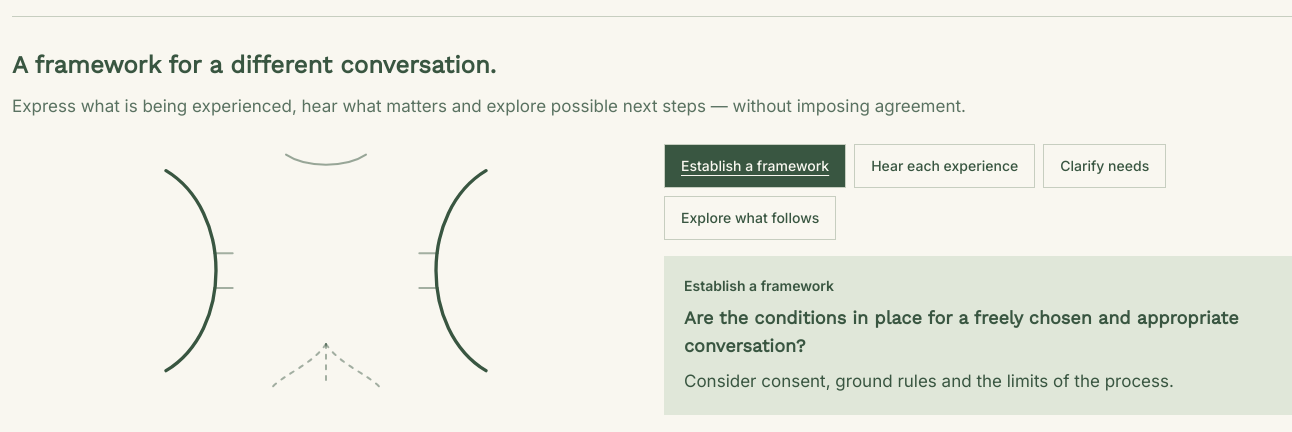
it: MediationIllustration › starts on the framework and lets any dimension be chosen directly
The width and height of the screenshot is (1292, 432).
Click the button "Explore what follows" at (750, 218), box left=664, top=196, right=836, bottom=240
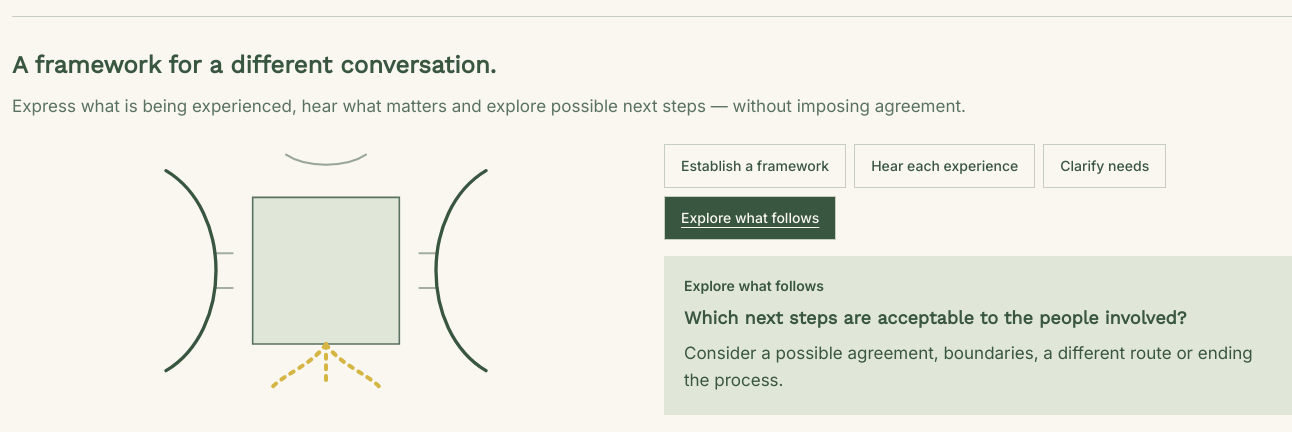
Now the text "Consider a possible agreement, boundaries, a different route or ending the process." is shown, box left=684, top=343, right=1253, bottom=390
